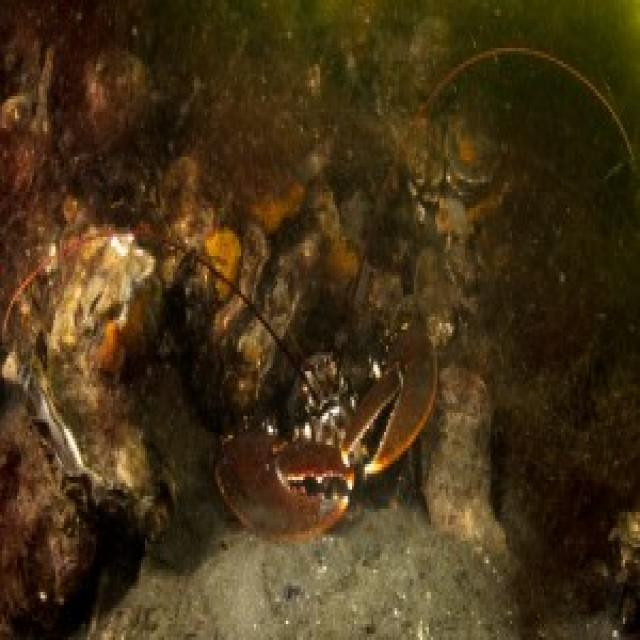lobsters: (156, 196, 570, 564)
